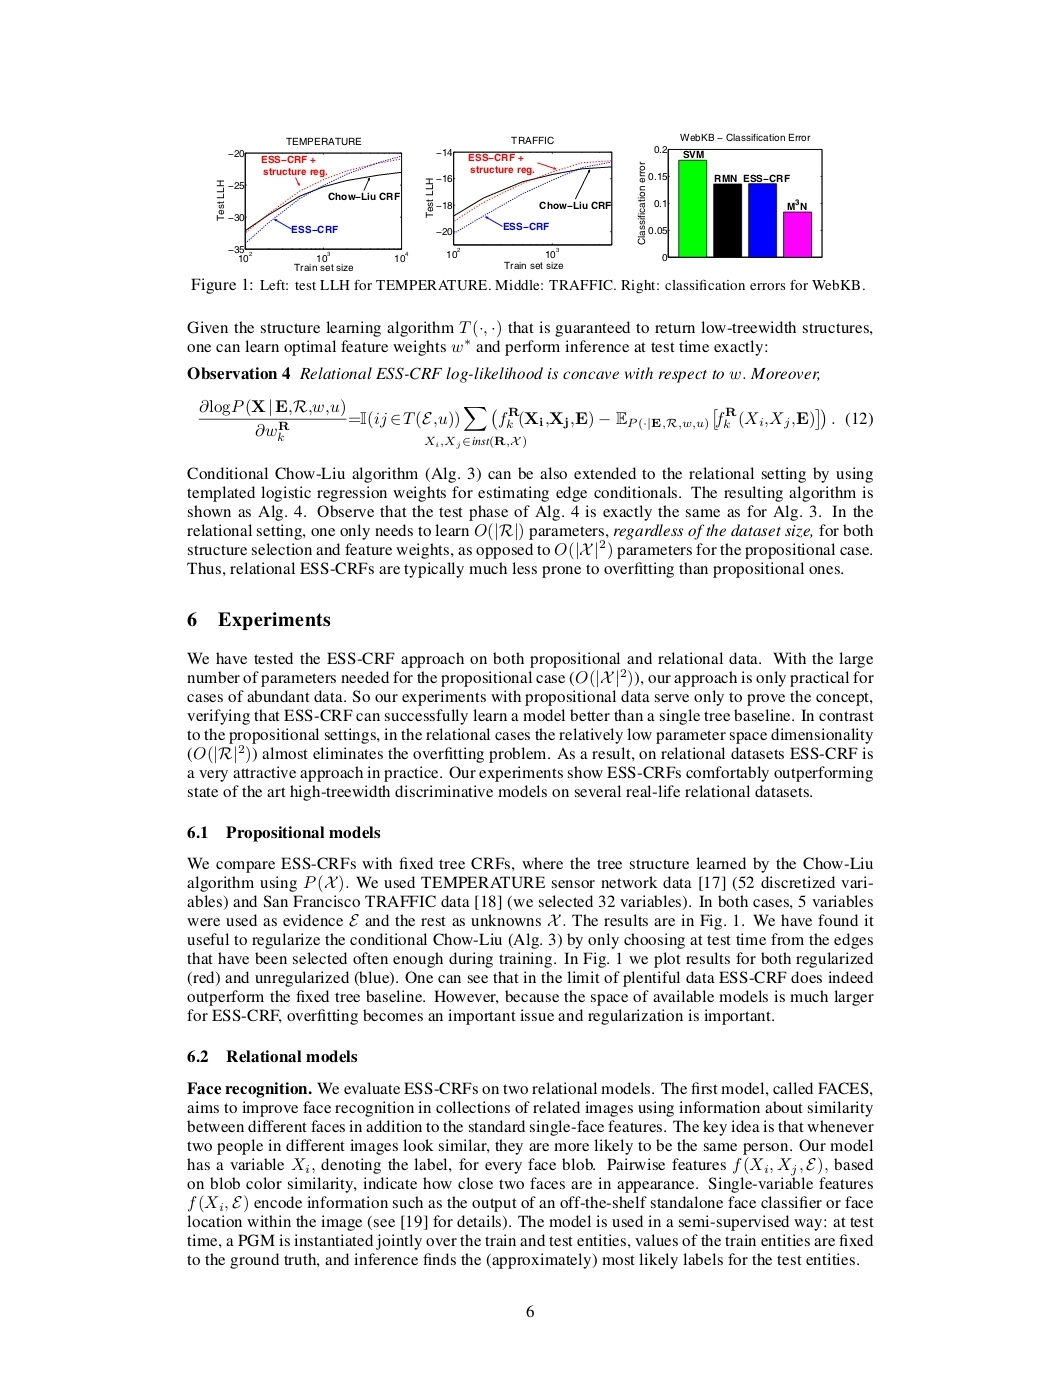figure: (216, 137, 408, 271), (425, 136, 612, 269), (637, 133, 822, 261)
formula: (198, 398, 872, 449)
